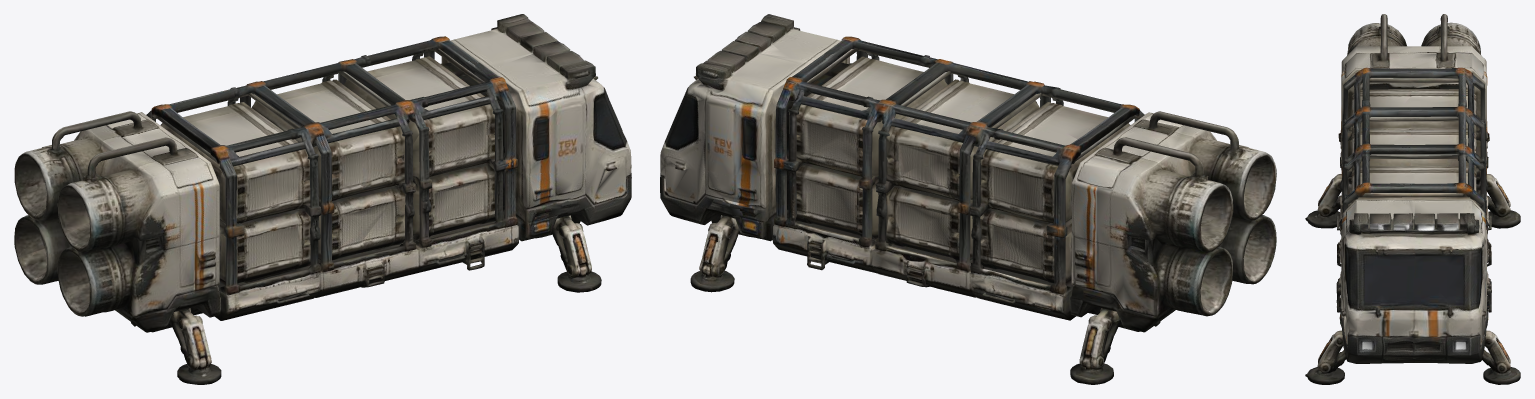
Rendered from mule.glb.
The picture shows the model from 3 angles, left to right: view 1: azimuth 30°, elevation 25°; view 2: azimuth 150°, elevation 25°; view 3: azimuth 270°, elevation 25°; orthographic projection. The views are drawn at different scales.
Parts seen in each view (by area): view 1: tripo_node_42590098-e86e-49b9-8bdc-1ff8748639c3; view 2: tripo_node_42590098-e86e-49b9-8bdc-1ff8748639c3; view 3: tripo_node_42590098-e86e-49b9-8bdc-1ff8748639c3.
Boxes of the visible parts, x1,y1,x2,y2 form: tripo_node_42590098-e86e-49b9-8bdc-1ff8748639c3: [14, 14, 631, 384]; tripo_node_42590098-e86e-49b9-8bdc-1ff8748639c3: [660, 14, 1276, 384]; tripo_node_42590098-e86e-49b9-8bdc-1ff8748639c3: [1305, 14, 1520, 384].
Size of the model in its own units: 0.9997 by 0.3724 by 0.4043.
1 material, 1 textured.
